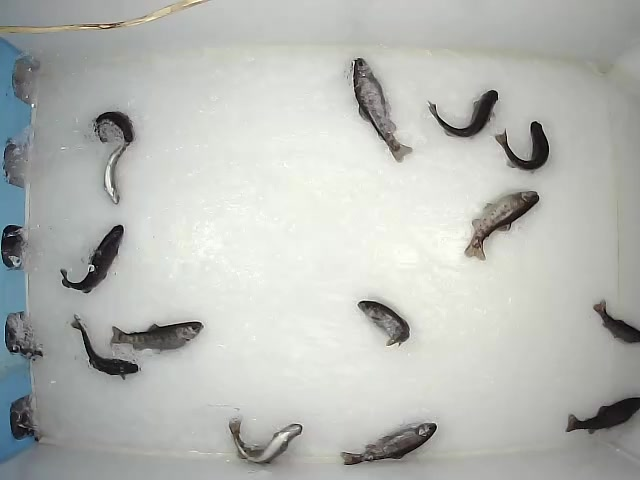fish: (351, 56, 413, 164), (462, 189, 541, 262), (59, 223, 125, 295), (71, 314, 140, 381), (339, 422, 438, 467), (426, 89, 500, 140), (228, 416, 304, 465), (109, 319, 205, 354), (563, 396, 640, 439), (494, 118, 550, 176), (356, 299, 411, 347), (591, 298, 640, 346), (102, 143, 134, 206), (93, 110, 137, 143)
